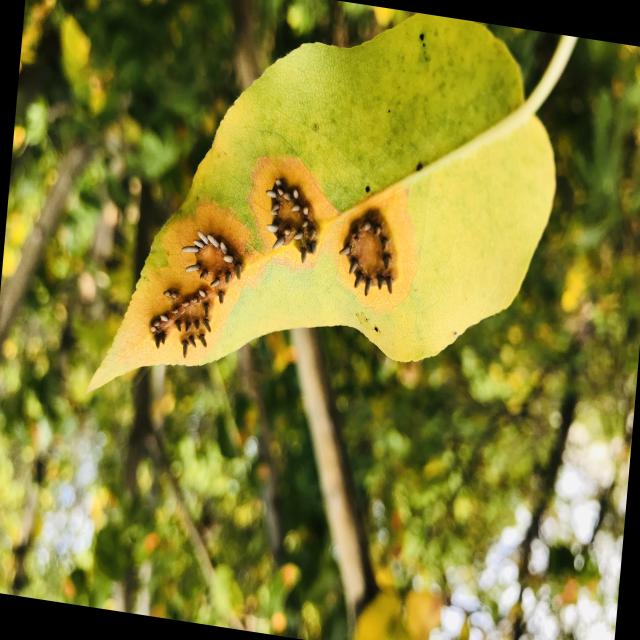Gymnosporangium_Rusts: (85, 12, 567, 396)
